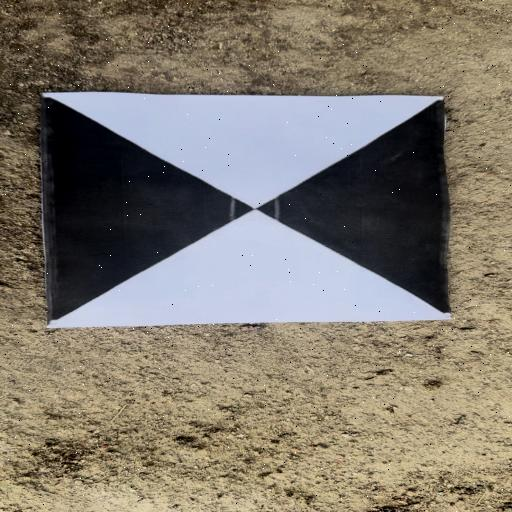target: (44, 92, 453, 327)
